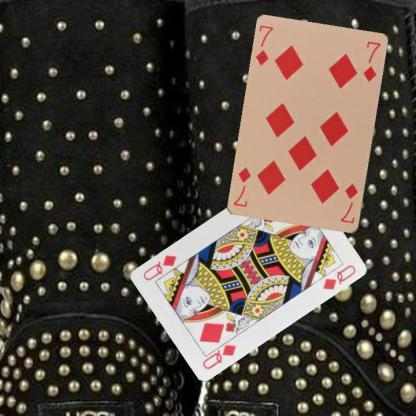7d: (338, 180, 360, 226), (253, 22, 275, 68)
Qd: (199, 334, 237, 370)
